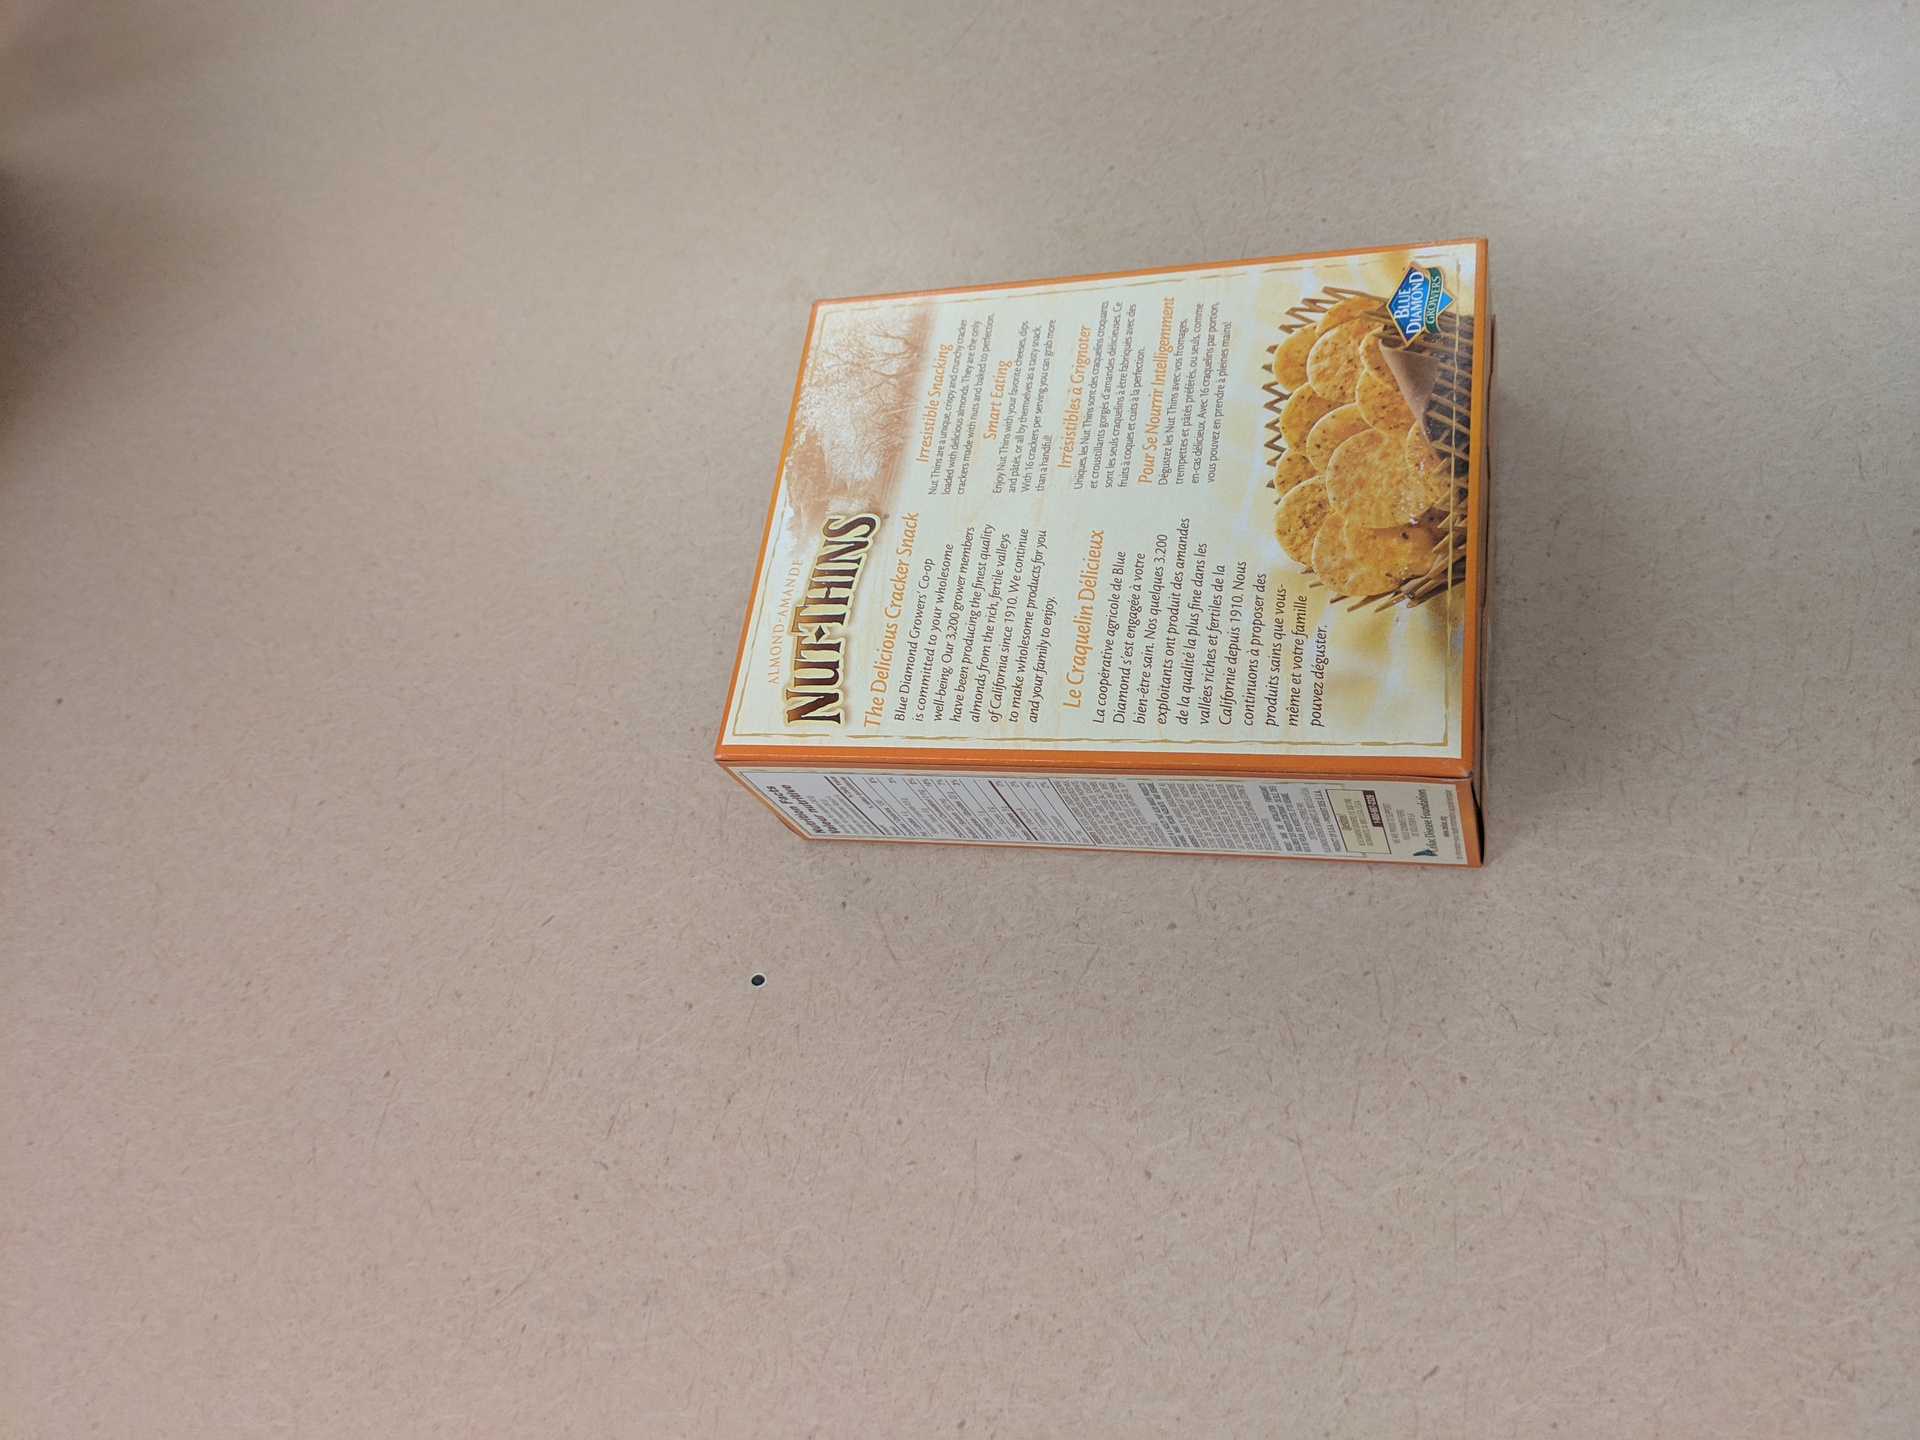blue_diamond_nut_thins_almond_cheddar: (700, 224, 1550, 889)
